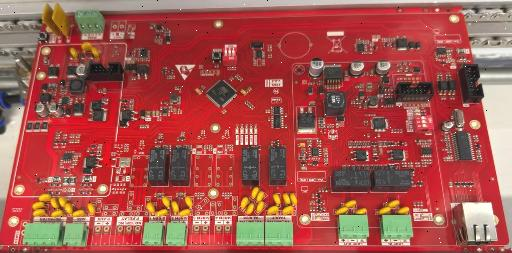var: (51, 3, 73, 39), (39, 2, 53, 35), (70, 47, 80, 61), (91, 47, 101, 60), (38, 193, 52, 202), (32, 201, 46, 210), (267, 205, 279, 215), (51, 197, 61, 209), (50, 209, 65, 217), (81, 42, 93, 52), (335, 206, 348, 215), (240, 197, 249, 210), (33, 209, 47, 217), (387, 199, 399, 208), (184, 196, 193, 208), (146, 202, 155, 214), (162, 196, 171, 208), (59, 196, 68, 208), (282, 206, 294, 215), (65, 203, 74, 215), (289, 193, 298, 205), (245, 203, 254, 215), (282, 193, 291, 205), (256, 201, 265, 213), (344, 200, 357, 208), (378, 206, 391, 214), (396, 206, 409, 214), (171, 201, 179, 214), (256, 191, 265, 202), (273, 193, 281, 205), (88, 203, 96, 215), (72, 210, 85, 217), (251, 187, 259, 198), (353, 208, 367, 214), (179, 209, 191, 216), (156, 209, 168, 216)
